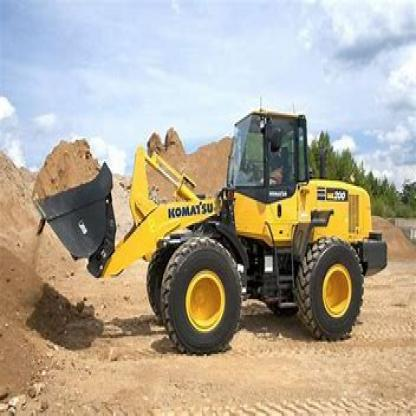bull_dozer/loader/grader: (32, 101, 391, 350)
